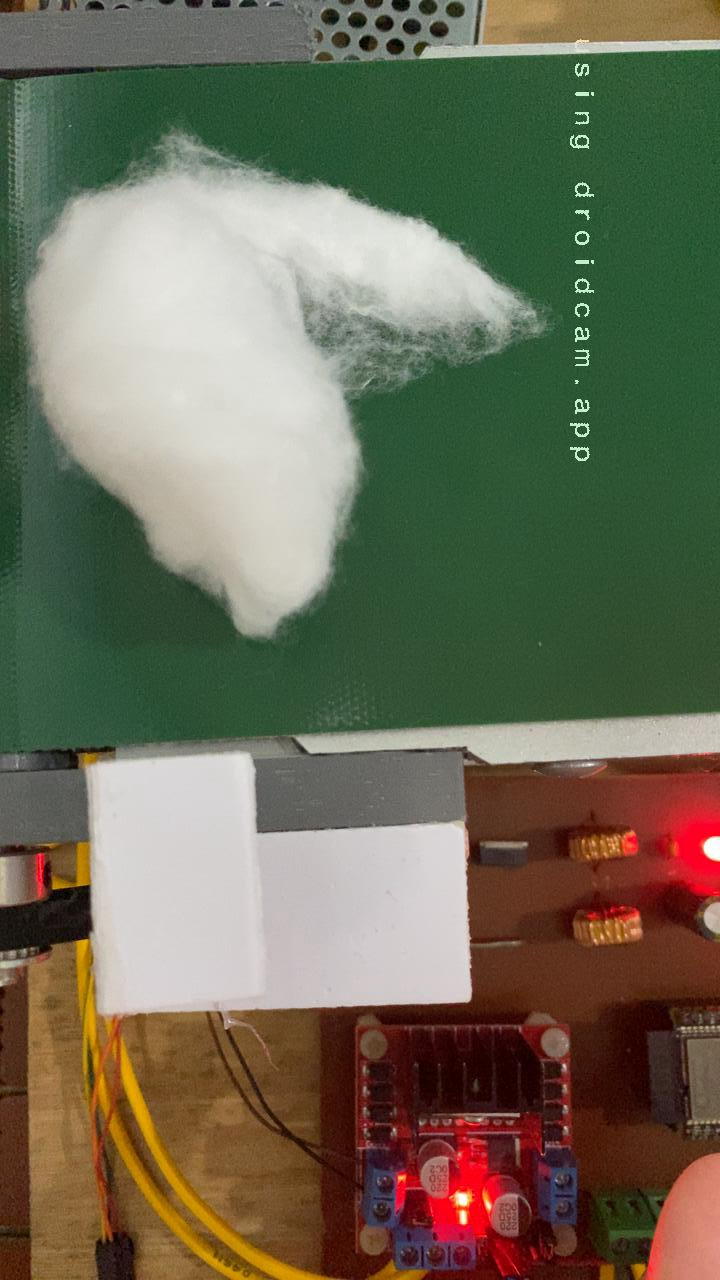cotton: (18, 128, 544, 644)
